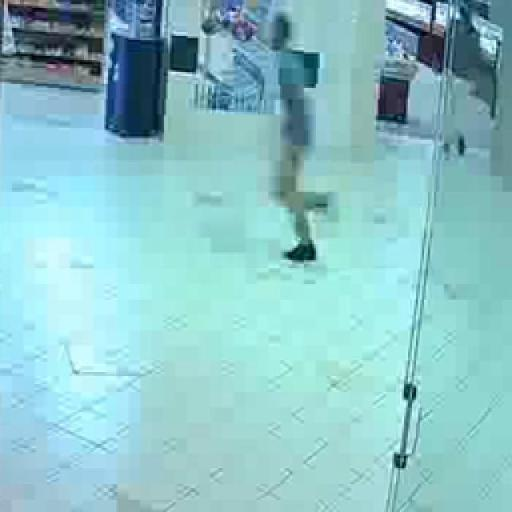person: (246, 16, 361, 284)
